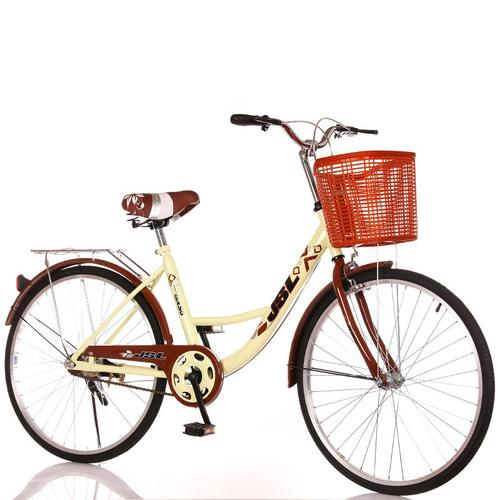单车: (4, 92, 498, 500)
